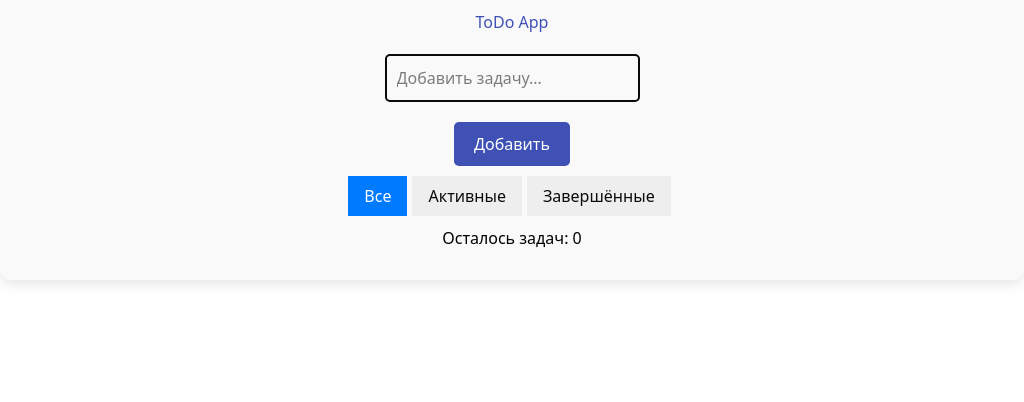
Test: ToDo App › очистка выполненных задач
# Добавляем и завершаем задачу
In the field with placeholder "Добавить задачу...": (512, 78) 384,54 -> 640,102, type "Задача для удаления"
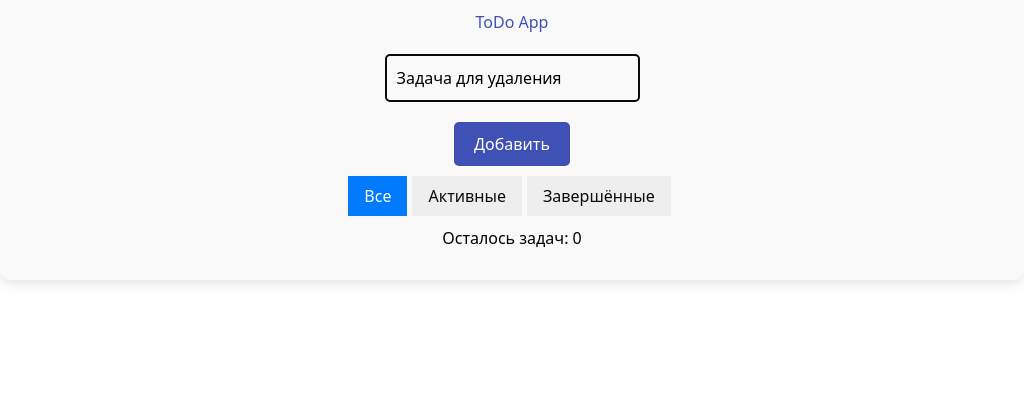
Click the button "Добавить": (512, 144) 454,122 -> 570,166
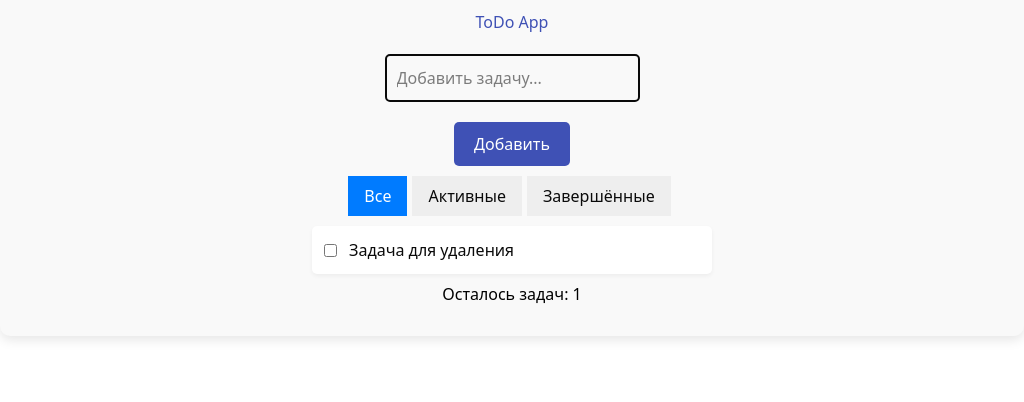
Click the checkbox named "Задача для удаления": (330, 250) 324,244 -> 337,256
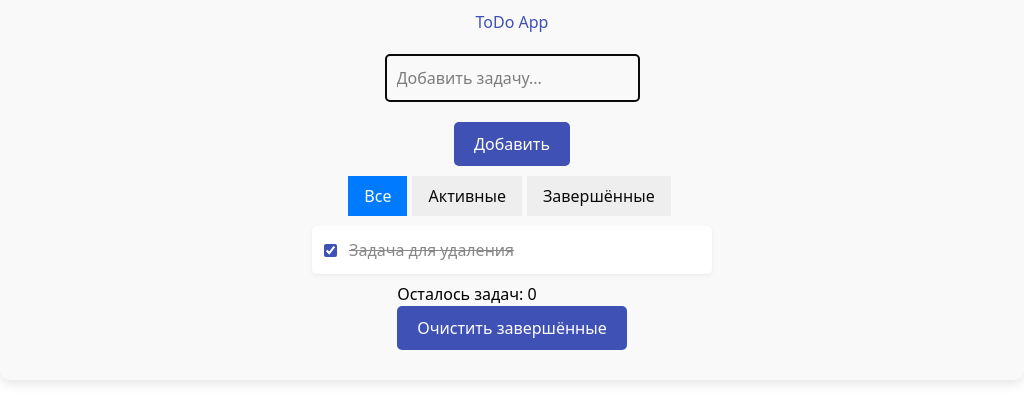
# Кликаем "Очистить завершённые"
Click the button "Очистить завершённые": (512, 328) 397,306 -> 627,350
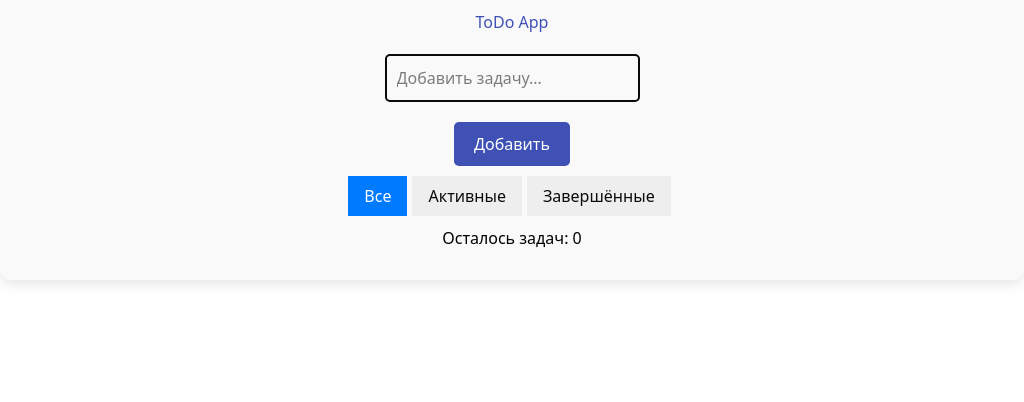
Result: the text "Задача для удаления" is gone
